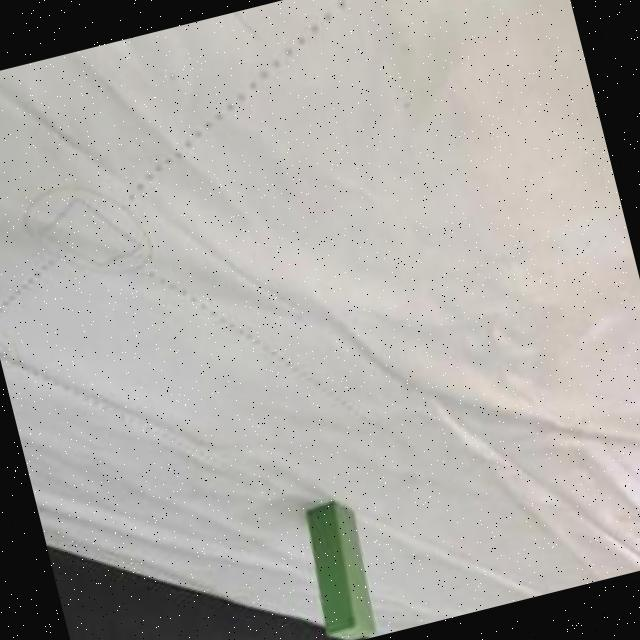greenbox: (292, 495, 387, 640)
